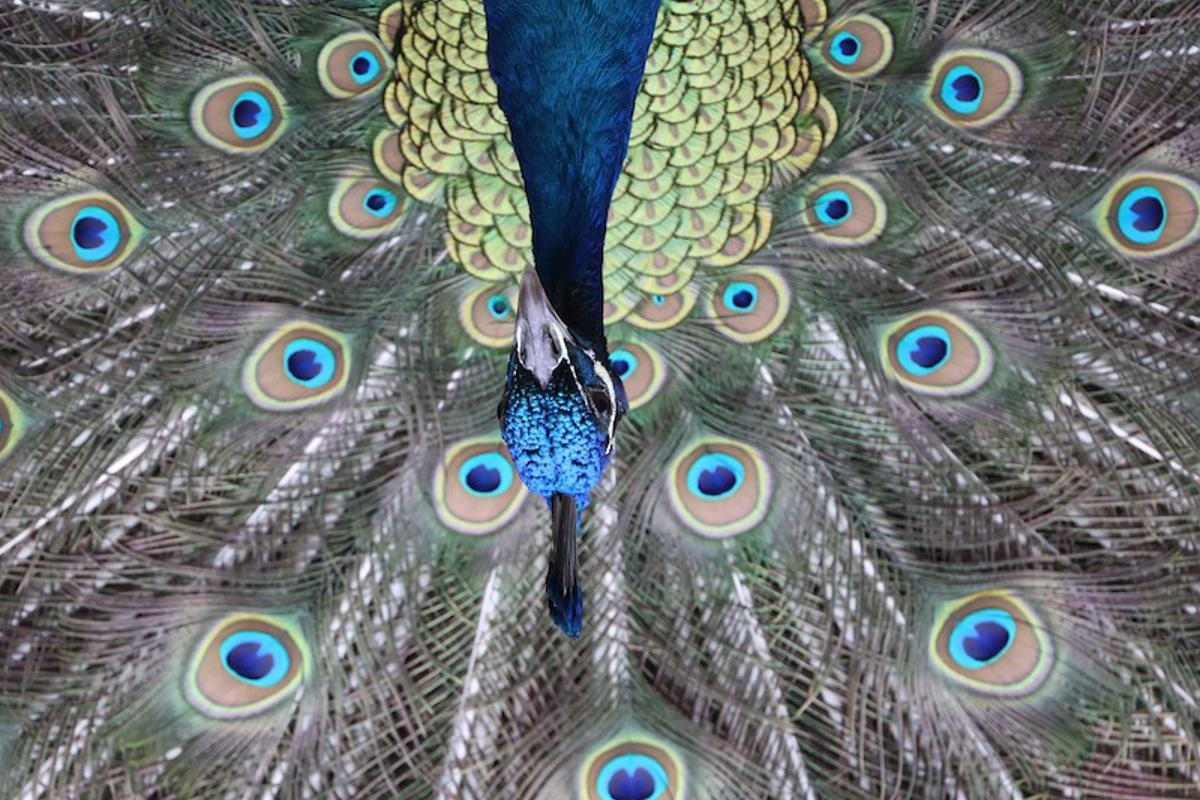peacock: (20, 1, 1200, 774)
